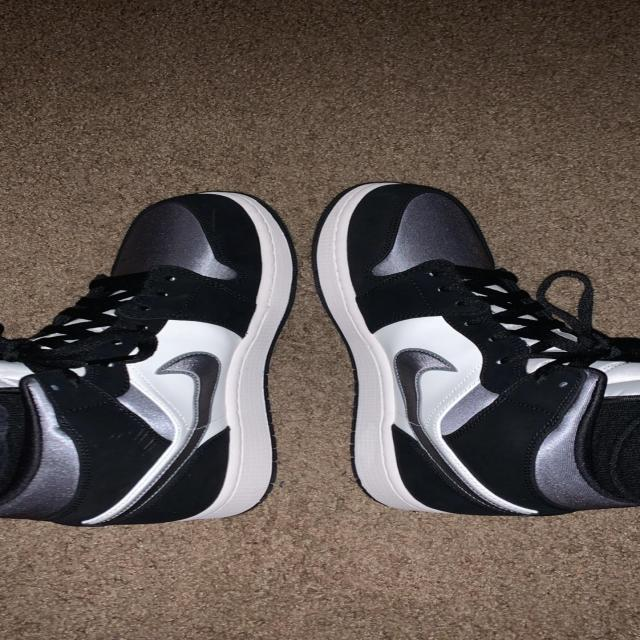shoes: (300, 176, 640, 520), (0, 184, 309, 529)
